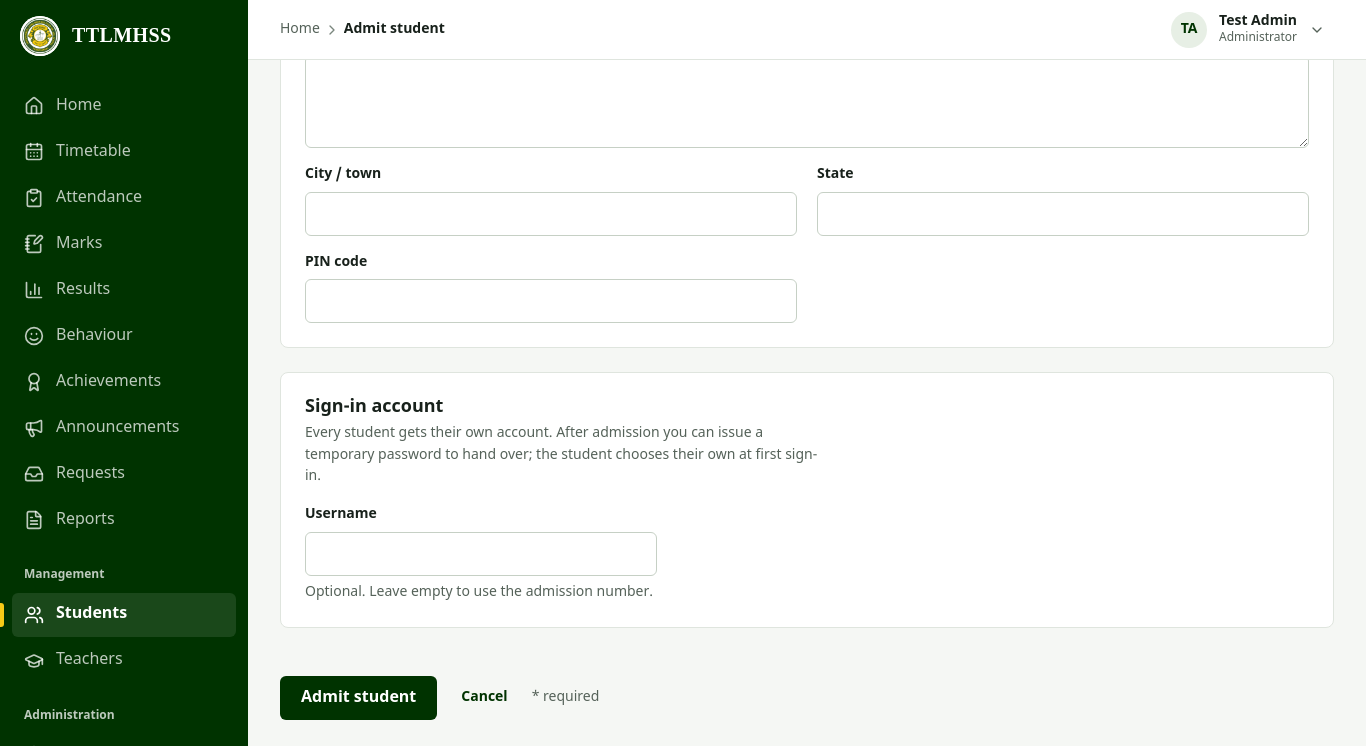
Test: students › admission: checks required fields first, then shows server conflicts next to the field
(page scrolled)
Click the button "Admit student": [359, 698] box [280, 676, 437, 720]
(page scrolled)
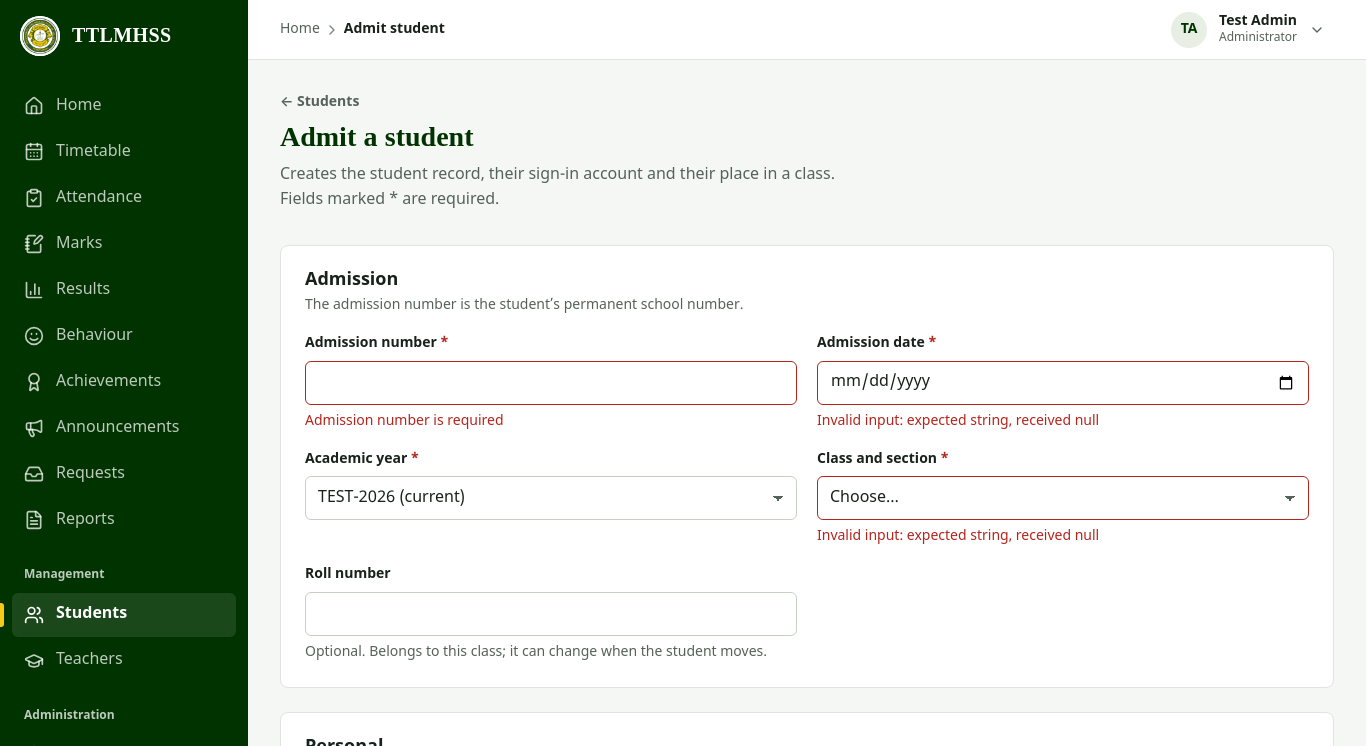
Check: the text "Admission number is required" is shown, box [305, 413, 504, 430]
In the field labelled "Admission number *": [551, 383] box [305, 361, 797, 405], type "T/001"
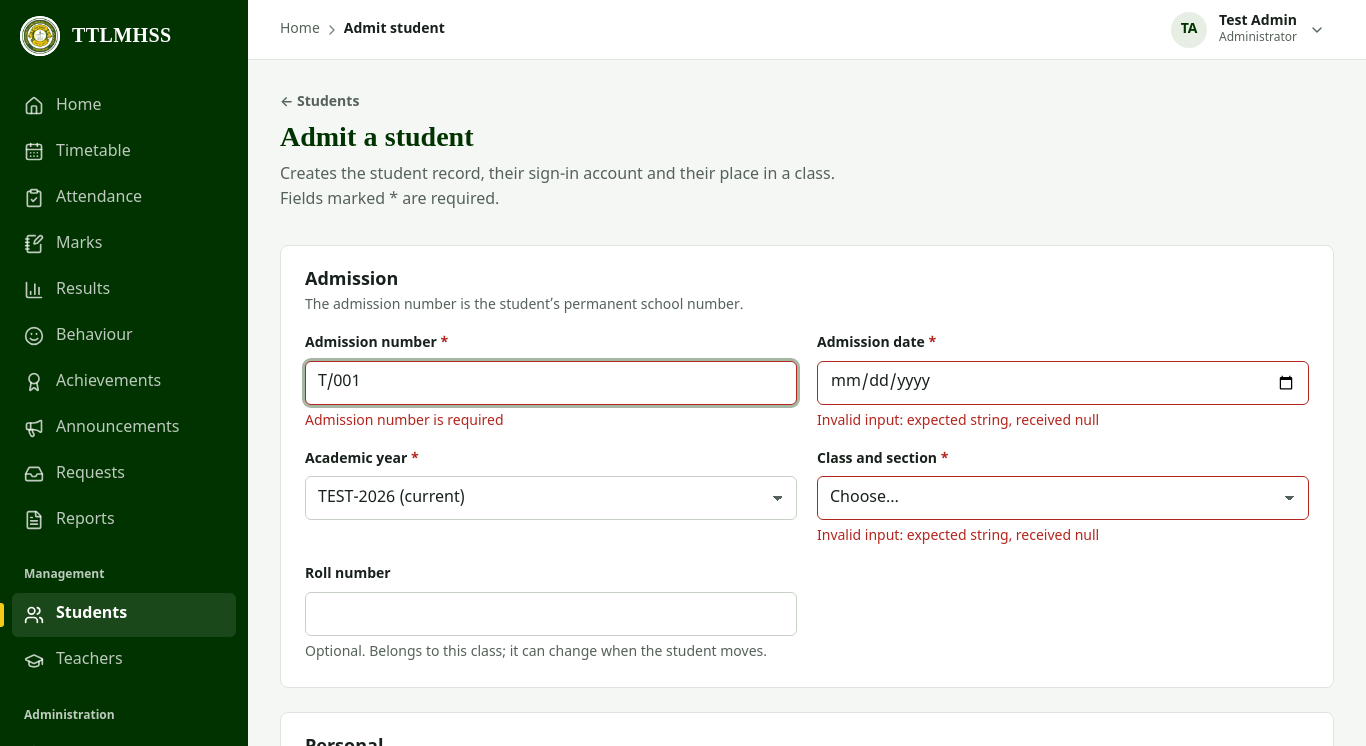
In the date field labelled "Admission date *": [1063, 383] box [817, 361, 1309, 405], type "2026-06-01"
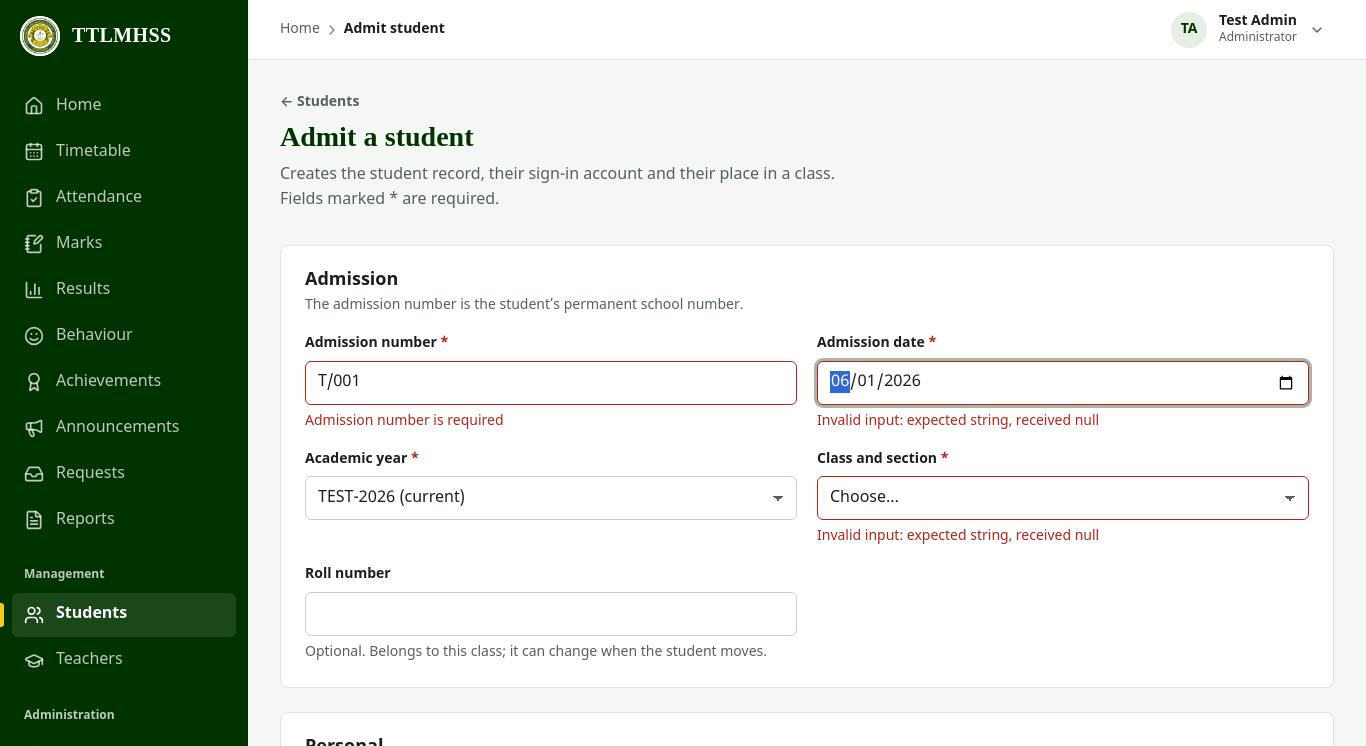
Select "TEST-IX A" in the dropdown labelled "Class and section *": [1063, 498] box [817, 476, 1309, 520]
(page scrolled)
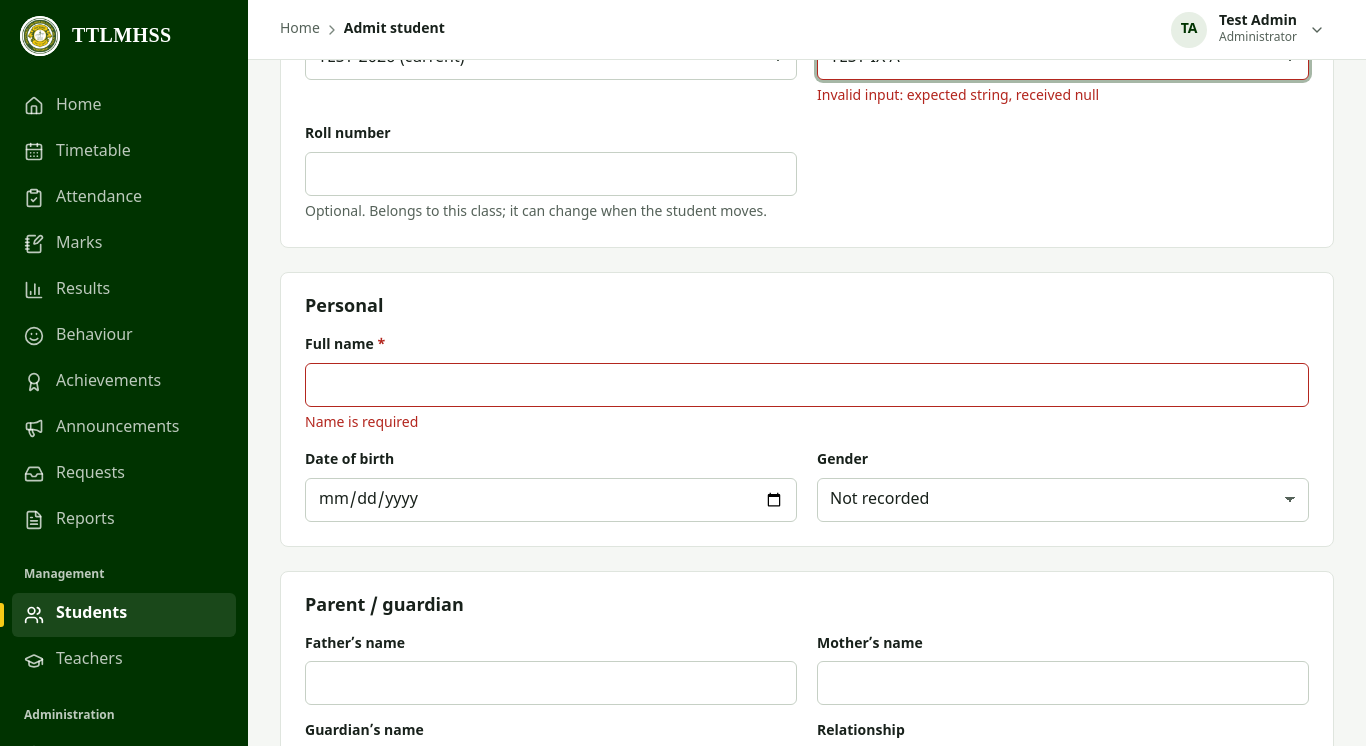
In the field labelled "Full name *": [807, 385] box [305, 363, 1309, 407], type "Test Student Two"
(page scrolled)
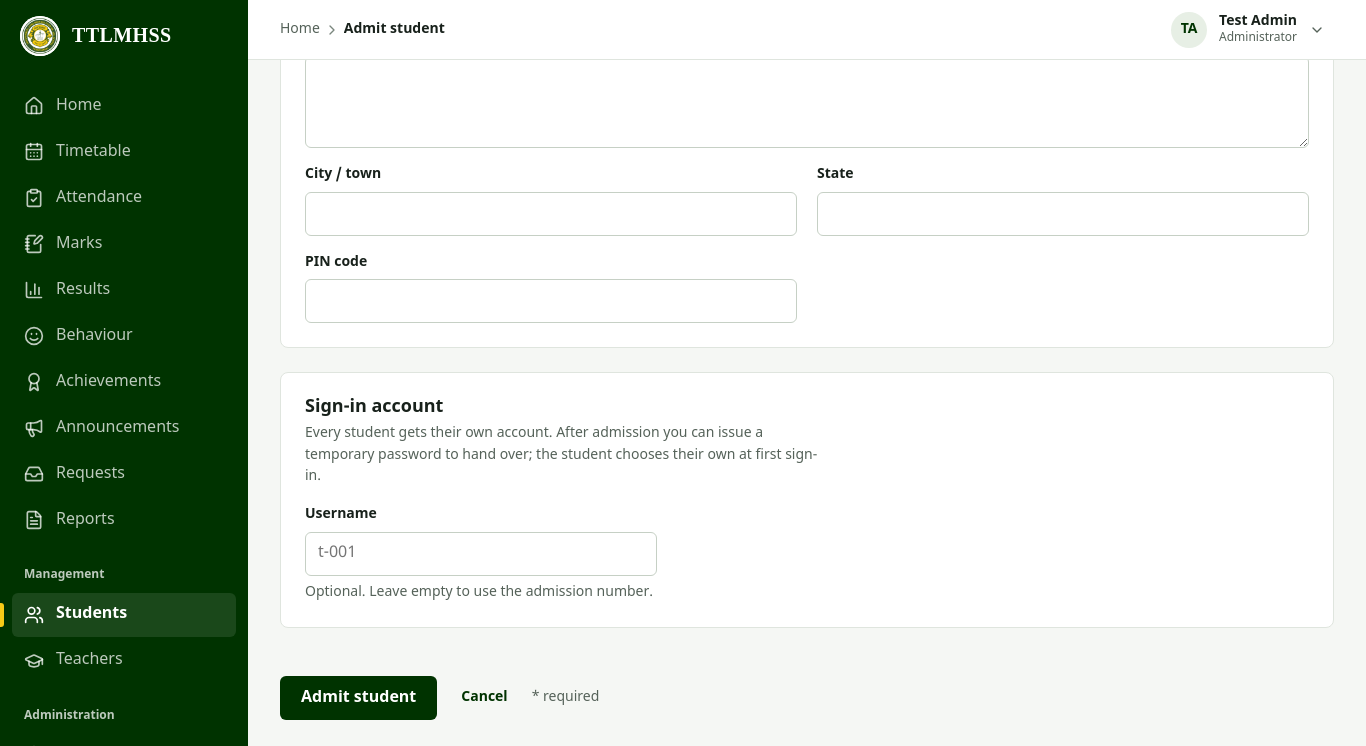
Click the button "Admit student": [359, 698] box [280, 676, 437, 720]
(page scrolled)
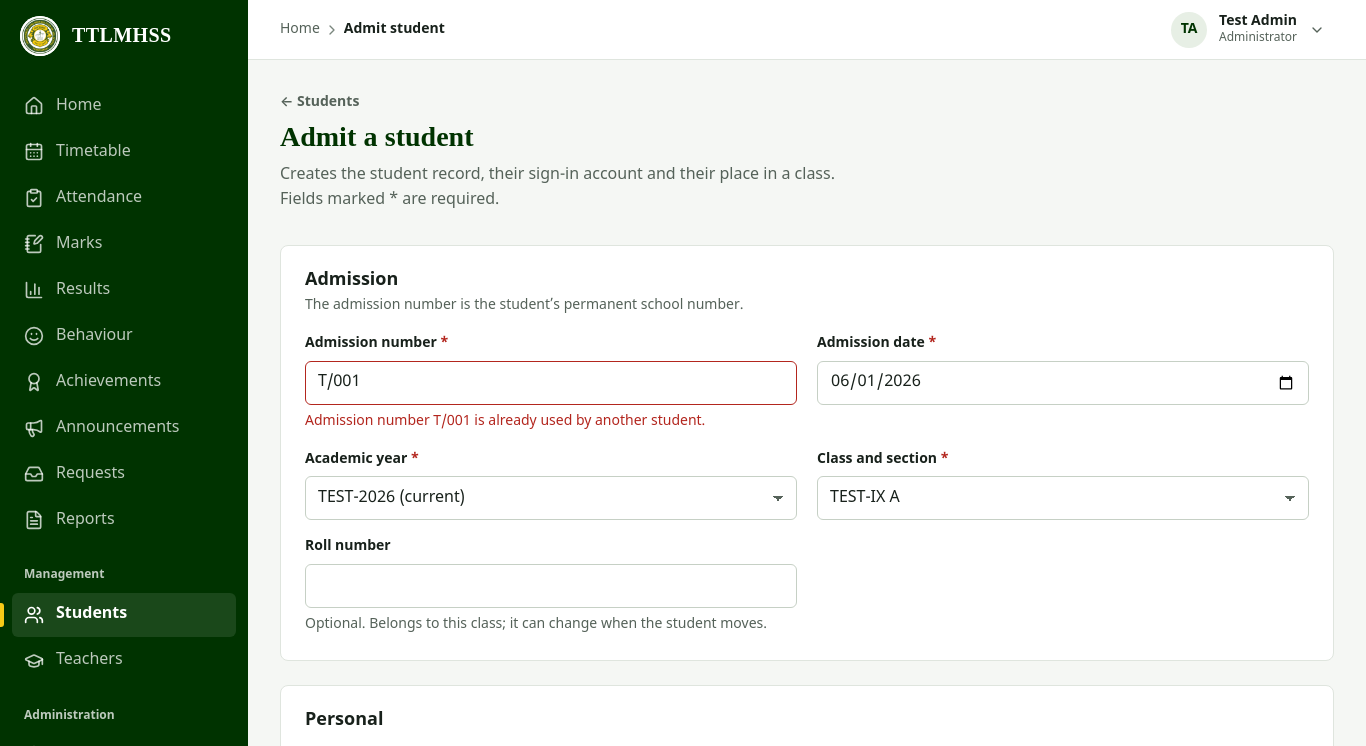
Check: the text "Admission number T/001 is already used by another student." is shown, box [305, 413, 705, 430]
